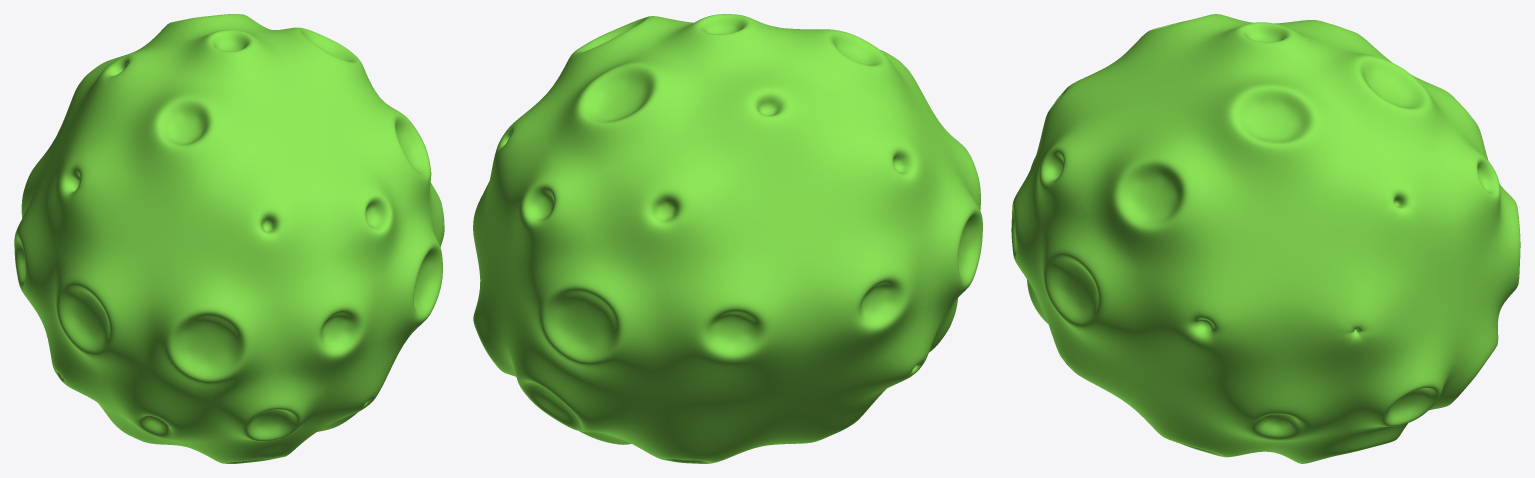
The model's file is asteroidGN.fbx.
3 views of the same model, side by side, from view 1: azimuth 30°, elevation 25°; view 2: azimuth 150°, elevation 25°; view 3: azimuth 270°, elevation 25° (orthographic). The views are drawn at different scales.
Parts seen in each view (by area): view 1: Cube; view 2: Cube; view 3: Cube.
Part boxes in pixels (bbox=[...]): Cube: bbox=[14, 14, 444, 463]; Cube: bbox=[473, 14, 982, 463]; Cube: bbox=[1011, 14, 1520, 463].
Bounding box in the file's own units: 208 × 196 × 228.
